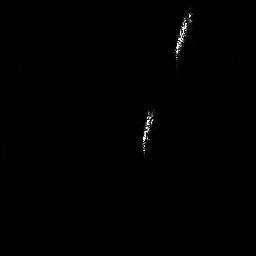ship: (172, 9, 194, 62), (139, 108, 156, 155)
